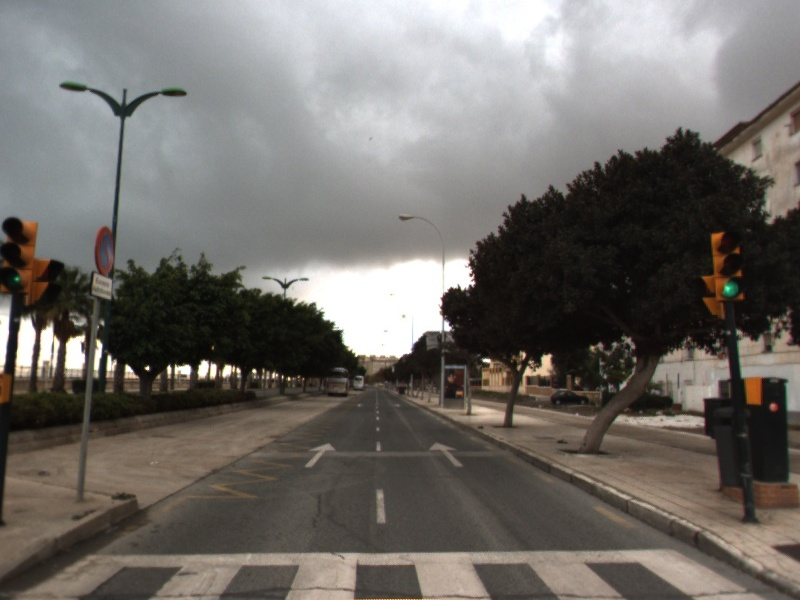STRAIGHT: (427, 440, 467, 469), (302, 441, 339, 469)
